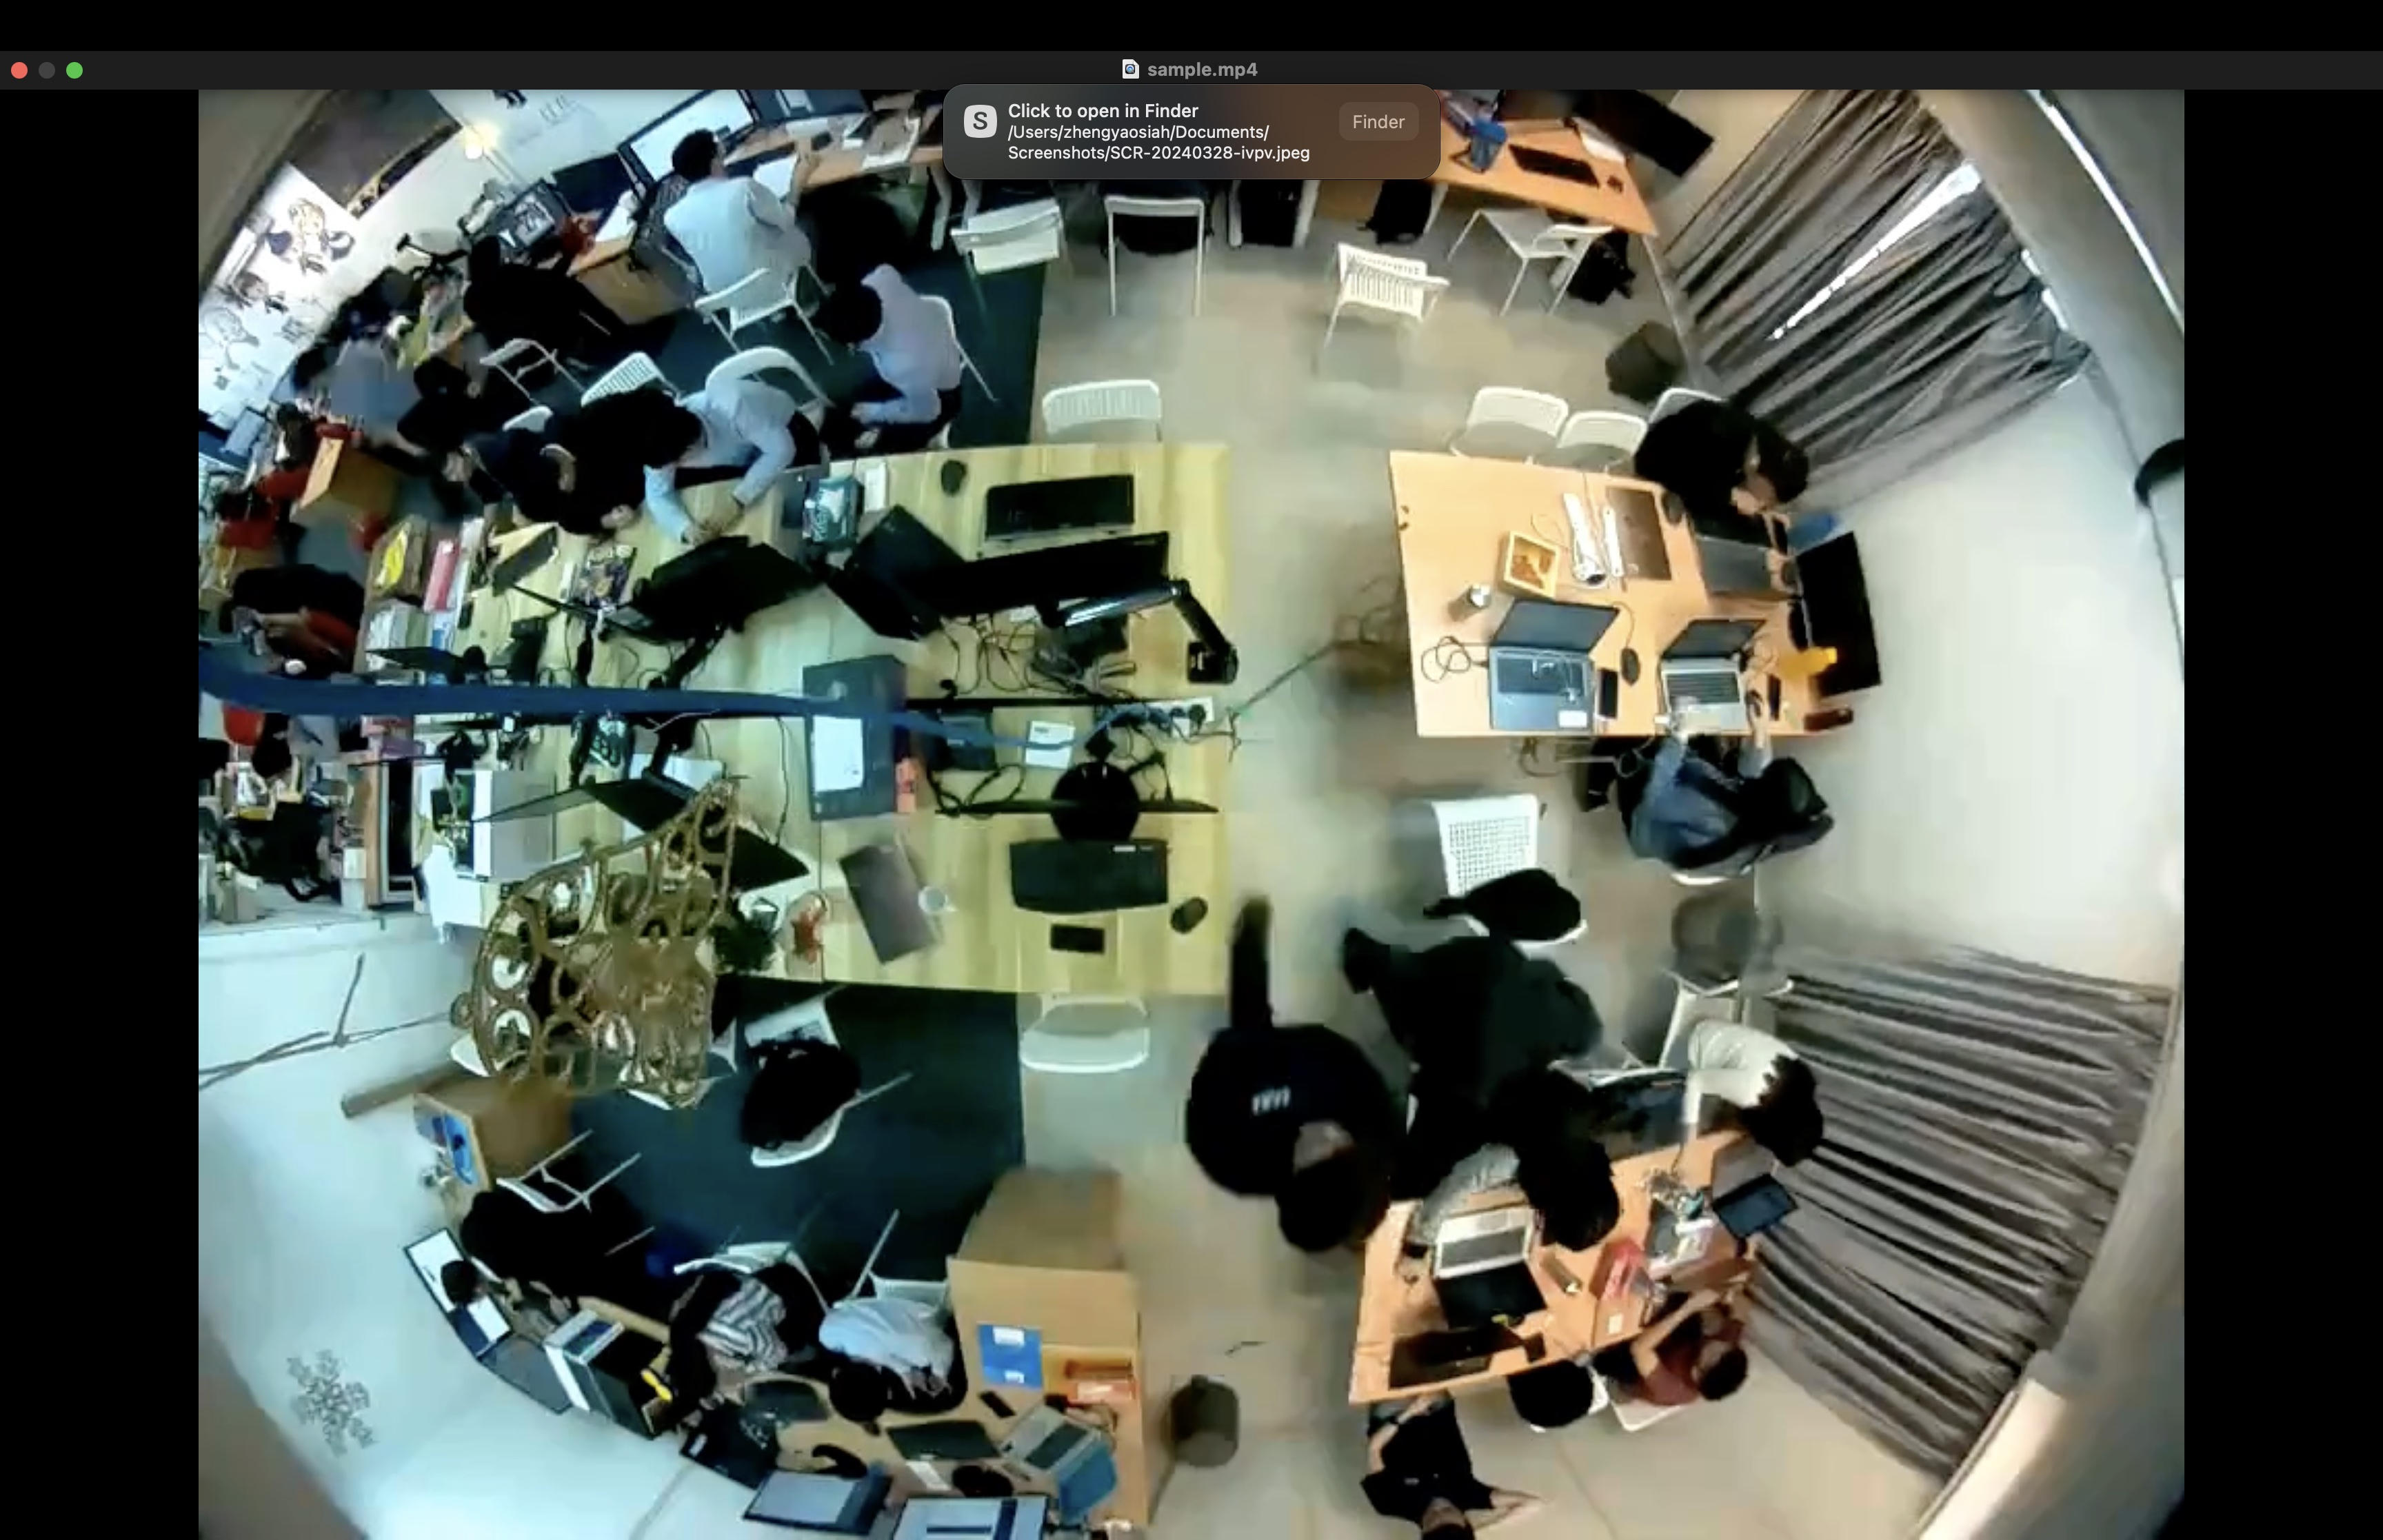Staff: (1181, 885, 1393, 1252)
